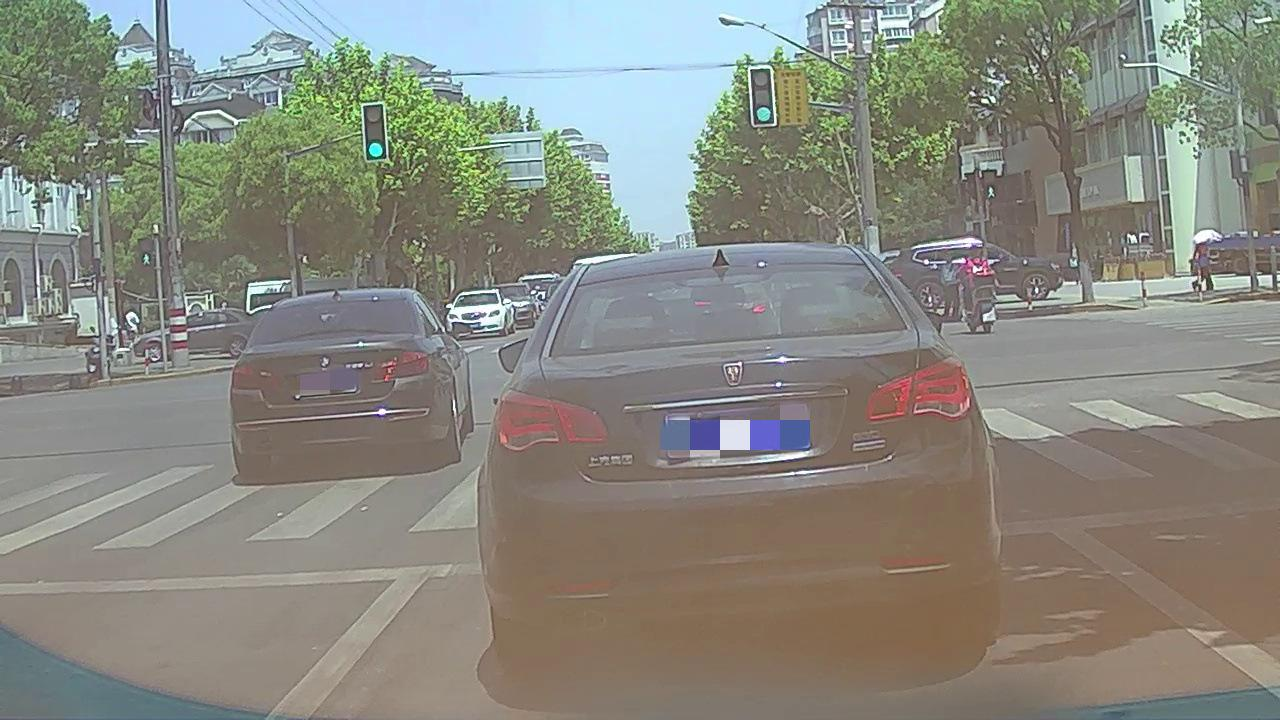traffic_light: (750, 70, 775, 124), (363, 104, 387, 159)
